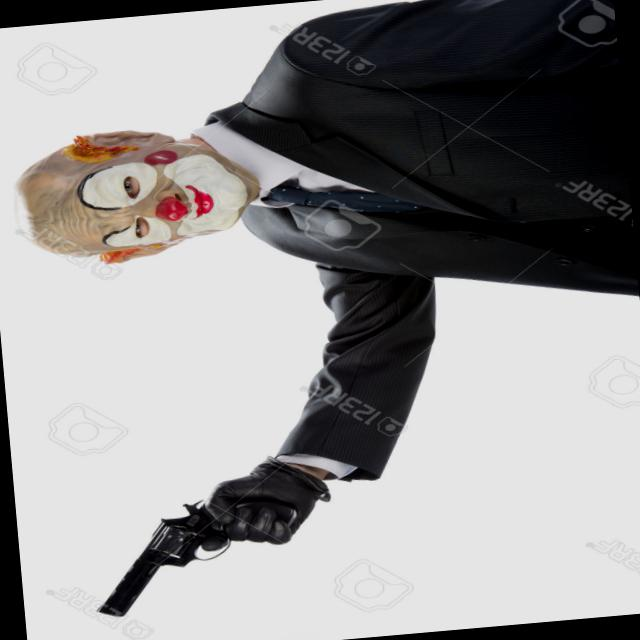handgun: (88, 486, 310, 625)
